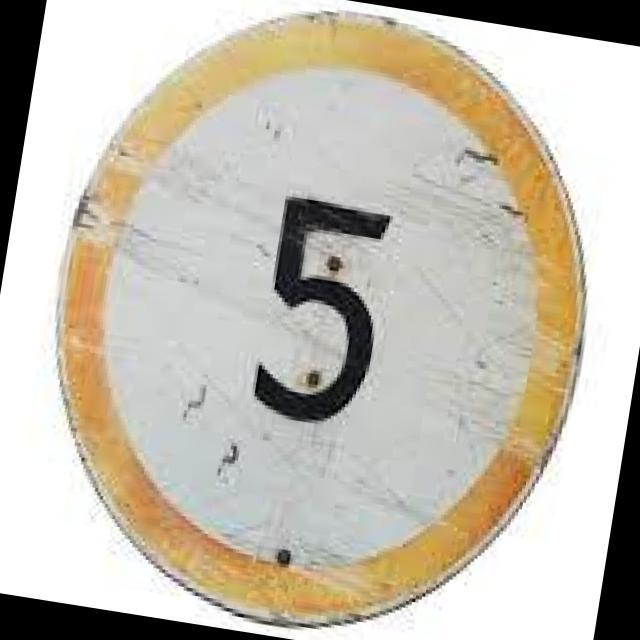obstructed_road_sign: (60, 12, 582, 624)
